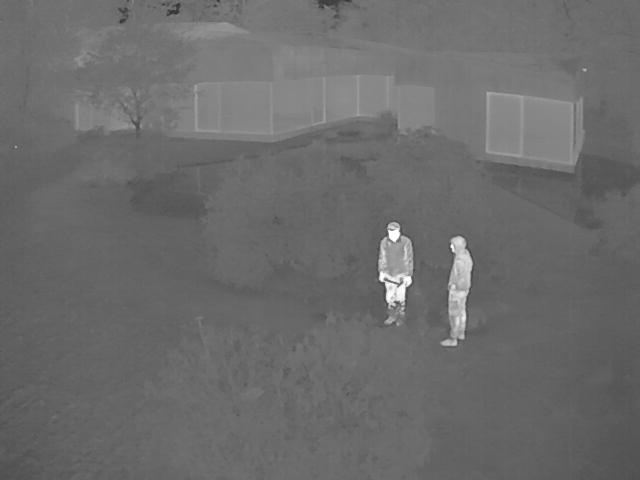person: (380, 221, 414, 327), (443, 234, 474, 347)
